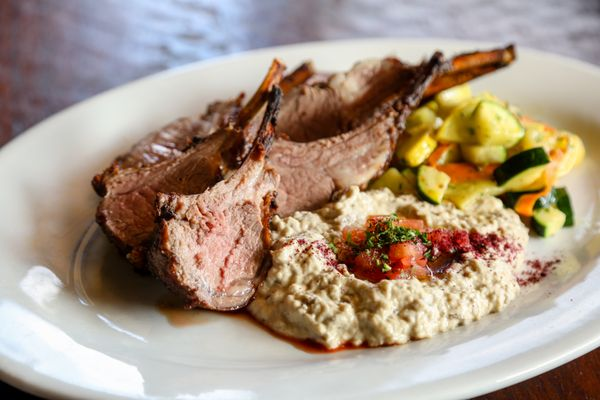curry: (530, 185, 575, 238)
